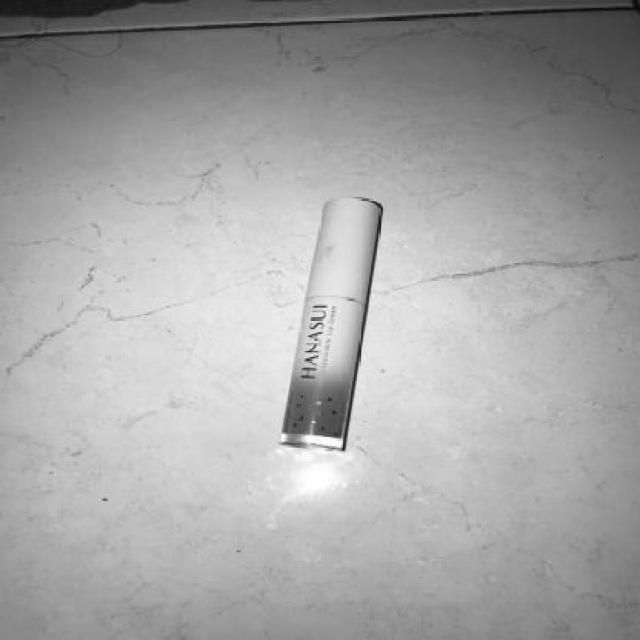lipstick: (266, 156, 408, 464)
